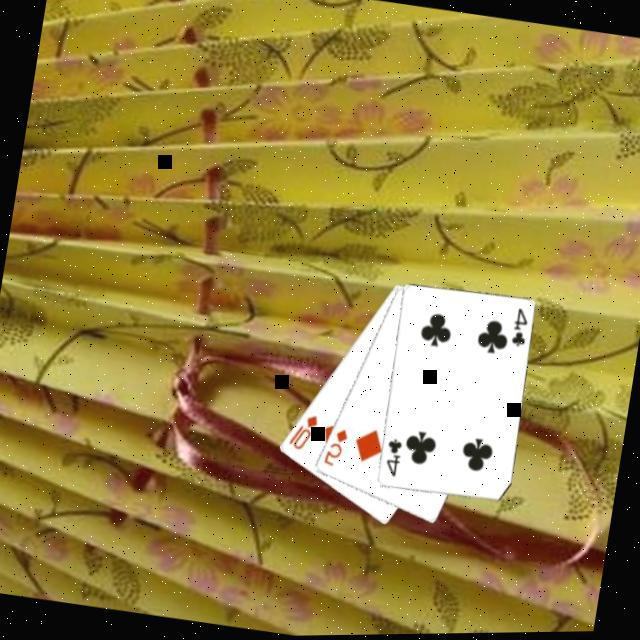10D: (284, 408, 320, 454)
4C: (506, 304, 532, 350), (380, 434, 405, 479)
5D: (319, 423, 351, 470)
